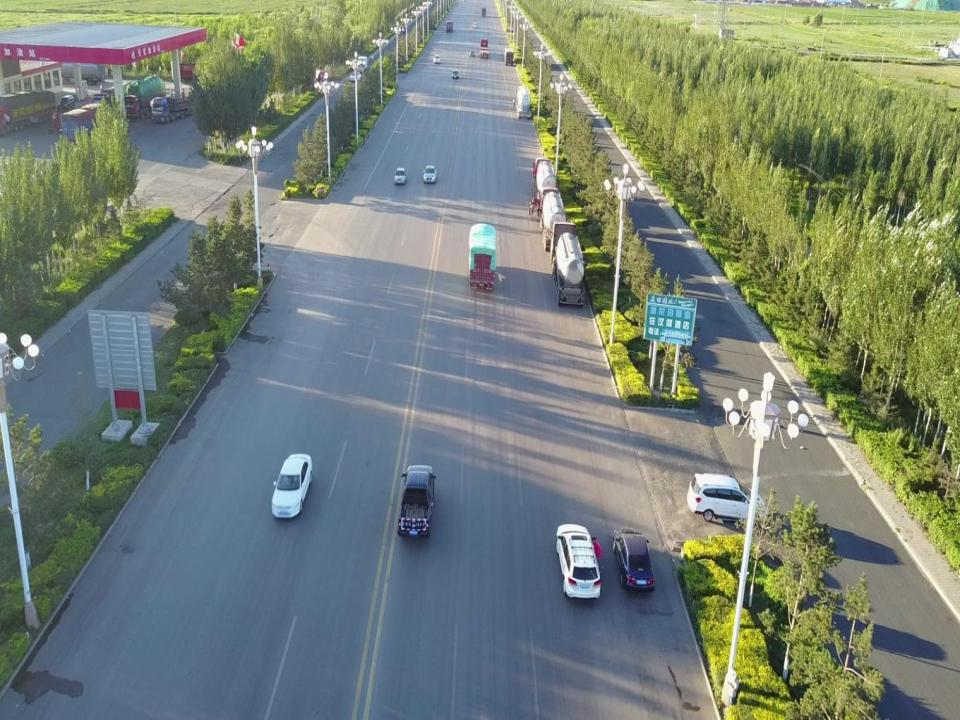car: (686, 470, 767, 526), (555, 522, 602, 600), (270, 452, 312, 520), (612, 527, 655, 592), (422, 164, 438, 184), (393, 168, 406, 184), (349, 71, 361, 83), (451, 69, 460, 78), (432, 54, 440, 63), (468, 49, 476, 57), (471, 22, 478, 28)
truck: (548, 218, 586, 306), (397, 463, 437, 540), (466, 221, 498, 296), (538, 184, 570, 252), (532, 156, 557, 204), (515, 86, 533, 120), (354, 55, 368, 74), (502, 46, 514, 66), (479, 37, 489, 59), (445, 18, 453, 32), (480, 6, 486, 18)
